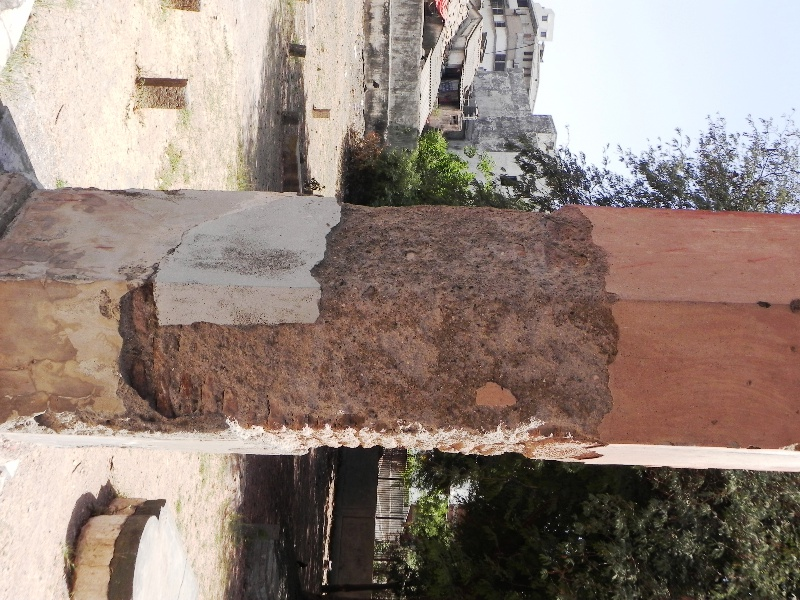Spalling: (110, 287, 629, 452), (310, 197, 618, 287)
